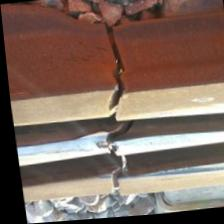person: (55, 5, 179, 126), (76, 152, 160, 214), (89, 119, 141, 156)
